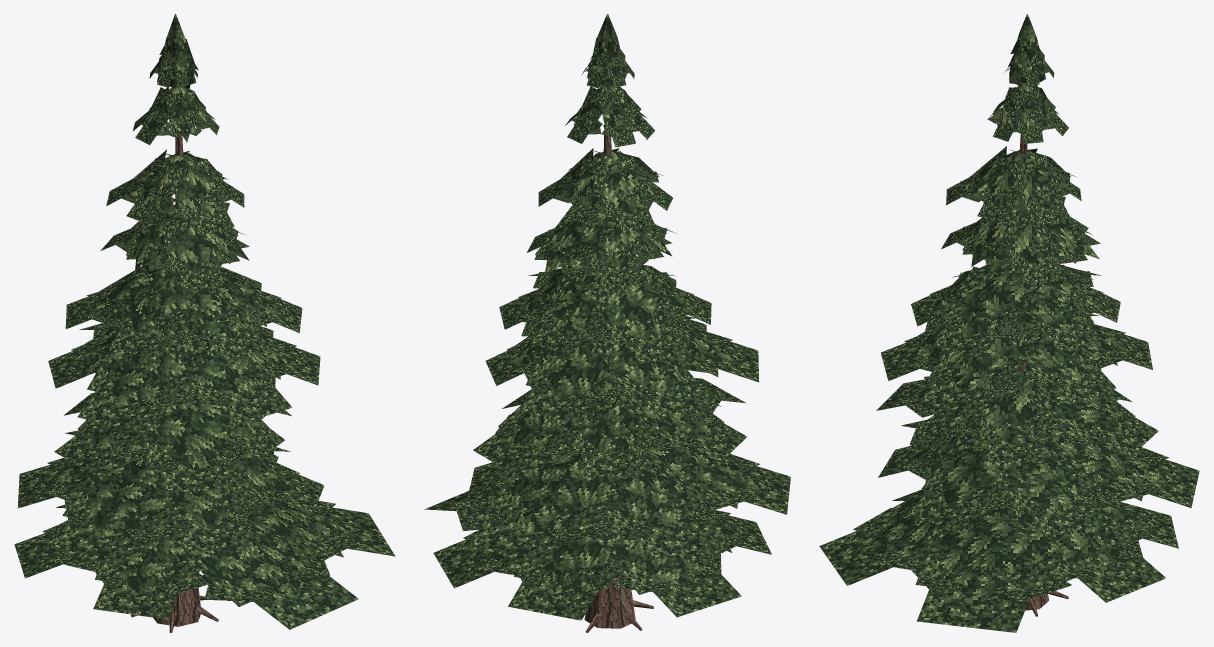
File: TREE_Spruce_A.glb
3 views of the same model, side by side, from view 1: azimuth 30°, elevation 25°; view 2: azimuth 150°, elevation 25°; view 3: azimuth 270°, elevation 25° (orthographic). The views are drawn at different scales.
Visible parts, largest first — view 1: TREE_Spruce_A__Card, TREE_Spruce_A__Foliage, TREE_Spruce_A__Bark; view 2: TREE_Spruce_A__Card, TREE_Spruce_A__Foliage, TREE_Spruce_A__Bark; view 3: TREE_Spruce_A__Card, TREE_Spruce_A__Foliage, TREE_Spruce_A__Bark.
Boxes of the visible parts, box(x1,y1,x2,y2) form: TREE_Spruce_A__Card: box(14, 38, 395, 629); TREE_Spruce_A__Foliage: box(47, 14, 348, 595); TREE_Spruce_A__Bark: box(130, 70, 249, 632); TREE_Spruce_A__Card: box(424, 38, 790, 620); TREE_Spruce_A__Foliage: box(473, 14, 757, 593); TREE_Spruce_A__Bark: box(544, 70, 672, 632); TREE_Spruce_A__Card: box(819, 38, 1199, 632); TREE_Spruce_A__Foliage: box(865, 14, 1164, 604); TREE_Spruce_A__Bark: box(971, 67, 1099, 616).
Bounding box in the file's own units: 7.91 × 13.33 × 7.83.
Materials: 3 (3 with a texture image).
